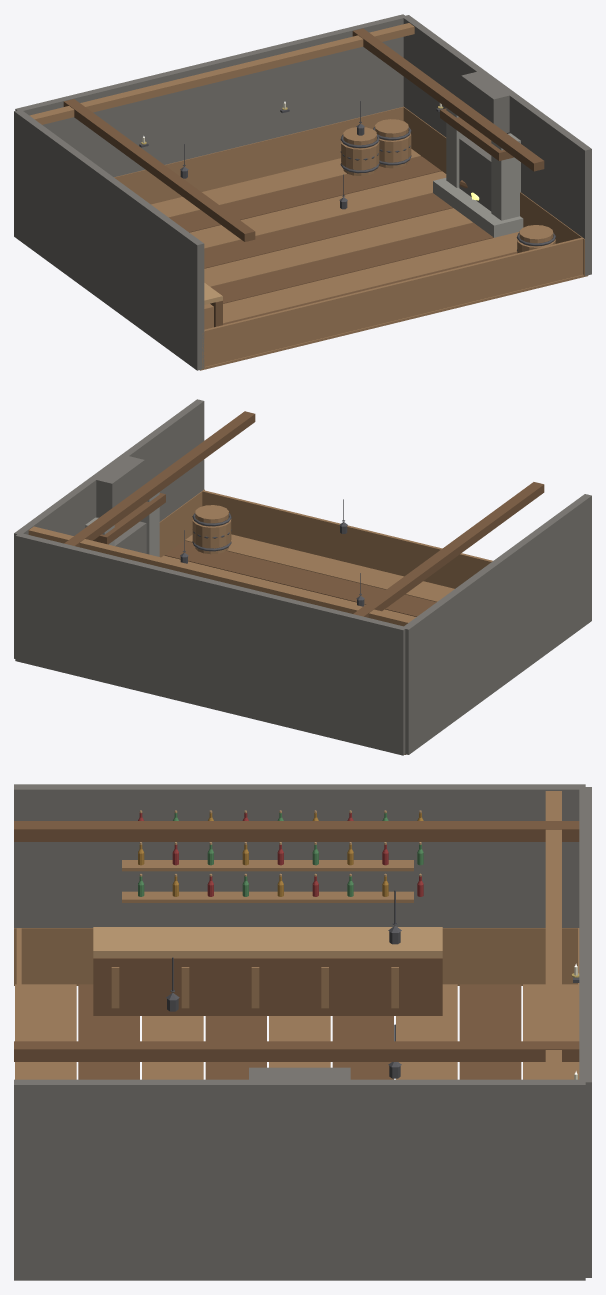
The model's file is TavernRoom.fbx.
The picture shows the model from 3 angles, top to bottom: view 1: azimuth 30°, elevation 25°; view 2: azimuth 150°, elevation 25°; view 3: azimuth 270°, elevation 25°; orthographic projection. The views are drawn at different scales.
Visible parts, largest first — view 1: TavernRoom; view 2: TavernRoom; view 3: TavernRoom.
Boxes of the visible parts, x1,y1,x2,y2 form: TavernRoom: (14,14,591,370); TavernRoom: (14,399,591,755); TavernRoom: (14,784,591,1280).
Size of the model in its own units: 1120 by 343 by 910.
